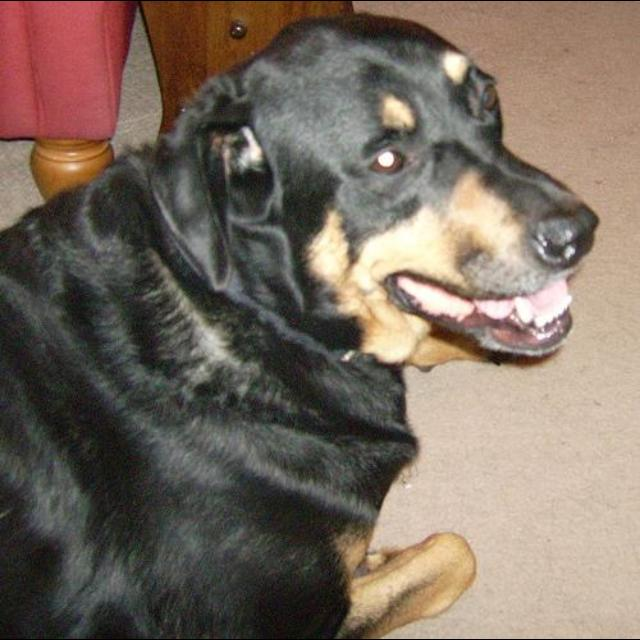rottweiler: (2, 11, 601, 639)
